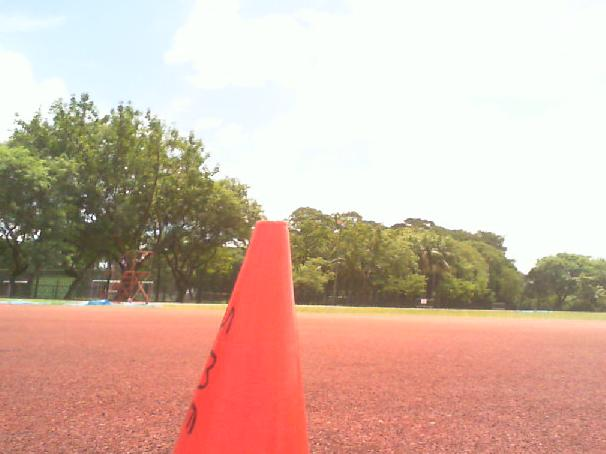0 cone: (167, 221, 310, 454)
